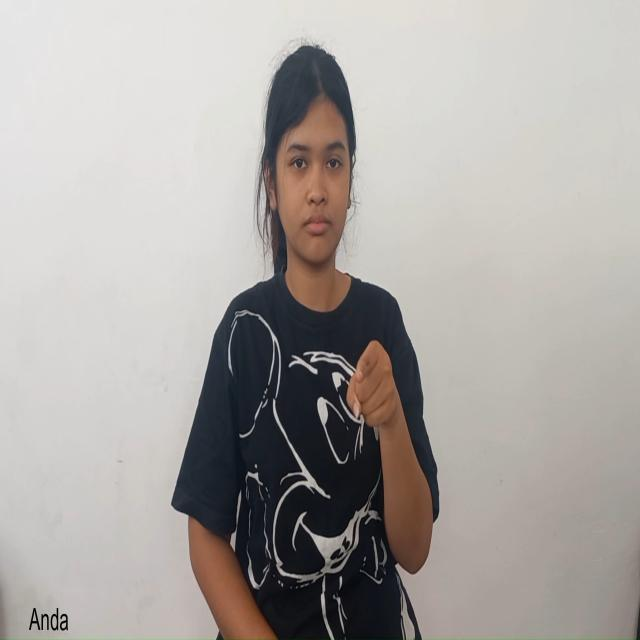Anda -BISINDO-: (310, 281, 442, 512)
